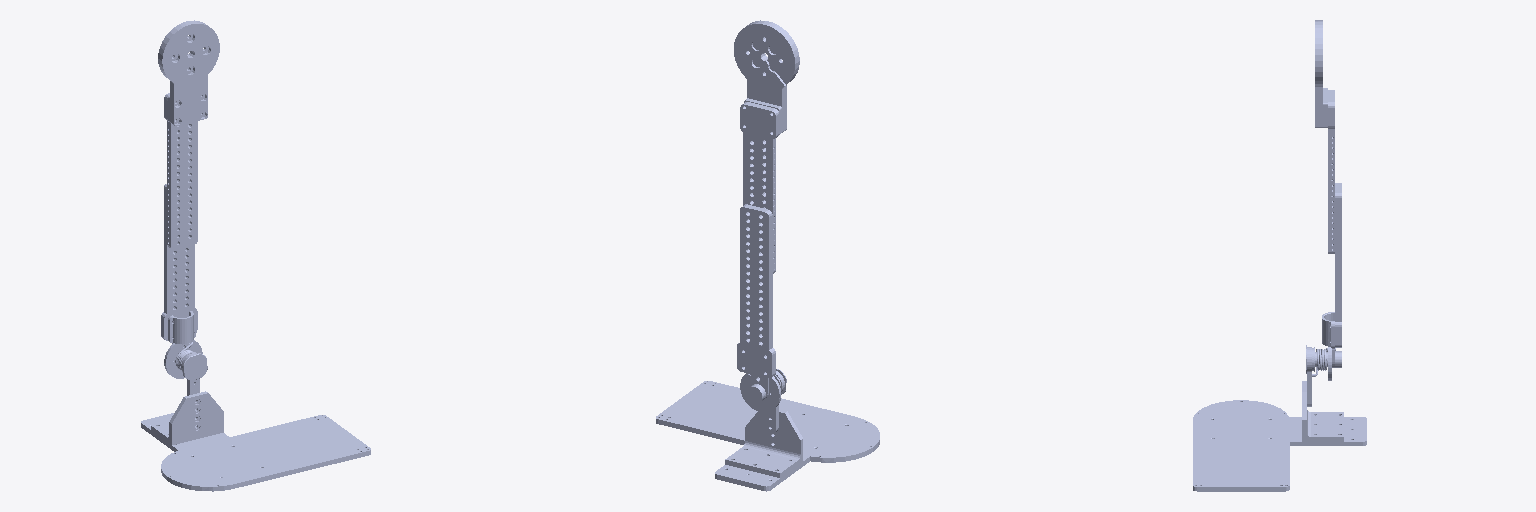
URDF robot description (exo_stand):
<?xml version="1.0" encoding="utf-8"?>
<!-- This URDF was automatically created by SolidWorks to URDF Exporter! Originally created by [author] ([email redacted]). so bro, if you have any questions, please communicate with [author] through email([email redacted]).
     Commit Version: 1.6.0-4-g7f85cfe  Build Version: 1.6.7995.38578
     For more information, please see http://wiki.ros.org/sw_urdf_exporter -->
<robot
  name="exo_stand">
  
  <link name="world"/>
  <joint name="base_joint" type="fixed">
     <parent link="world"/>
     <child link="base_link"/>
     <origin rpy="0 0 0" xyz="0.0 0.0 0.0"/>
  </joint>
  
  <link
    name="base_link">
    <inertial>
      <origin
        xyz="-0.042816 -4.3326E-06 0.21996"
        rpy="0 0 0" />
      <mass
        value="142.96" />
      <inertia
        ixx="19.5"
        ixy="-1.2289E-06"
        ixz="2.0058"
        iyy="16.237"
        iyz="-3.071E-05"
        izz="27.078" />
    </inertial>
    <visual>
      <origin
        xyz="0 0 0"
        rpy="0 0 0" />
      <geometry>
        <mesh
          filename="package://exo_stand/meshes/base_link.STL" />
      </geometry>
      <material
        name="">
        <color
          rgba="0.79216 0.81961 0.93333 1" />
      </material>
    </visual>
    <collision>
      <origin
        xyz="0 0 0"
        rpy="0 0 0" />
      <geometry>
        <mesh
          filename="package://exo_stand/meshes/base_link.STL" />
      </geometry>
    </collision>
  </link>
  <!-- <link
    name="link1">
    <inertial>
      <origin
        xyz="3.1492E-05 -0.049991 -0.34394"
        rpy="0 0 0" />
      <mass
        value="1.0253" />
      <inertia
        ixx="0.0012561"
        ixy="-1.135E-08"
        ixz="1.7024E-07"
        iyy="0.0017479"
        iyz="-3.2591E-06"
        izz="0.00065826" />
    </inertial>
    <visual>
      <origin
        xyz="0 0 0"
        rpy="0 0 0" />
      <geometry>
        <mesh
          filename="package://exo_stand/meshes/link1.STL" />
      </geometry>
      <material
        name="">
        <color
          rgba="0.79216 0.81961 0.93333 1" />
      </material>
    </visual>
    <collision>
      <origin
        xyz="0 0 0"
        rpy="0 0 0" />
      <geometry>
        <mesh
          filename="package://exo_stand/meshes/link1.STL" />
      </geometry>
    </collision>
  </link>
  <joint
    name="joint1"
    type="revolute">
    <origin
      xyz="0.03675 -0.1705 1.1229"
      rpy="0 0 0" />
    <parent
      link="base_link" />
    <child
      link="link1" />
    <axis
      xyz="0 -1 0" />
    <limit
      lower="-1.57"
      upper="1.57"
      effort="1000"
      velocity="5000" />
  </joint>
  <link
    name="link2">
    <inertial>
      <origin
        xyz="0.016028 0.034997 -0.34408"
        rpy="0 0 0" />
      <mass
        value="0.45601" />
      <inertia
        ixx="0.00085102"
        ixy="-8.69E-05"
        ixz="2.1456E-08"
        iyy="0.0013424"
        iyz="-8.565E-06"
        izz="0.0012002" />
    </inertial>
    <visual>
      <origin
        xyz="0 0 0"
        rpy="0 0 0" />
      <geometry>
        <mesh
          filename="package://exo_stand/meshes/link2.STL" />
      </geometry>
      <material
        name="">
        <color
          rgba="0.79216 0.81961 0.93333 1" />
      </material>
    </visual>
    <collision>
      <origin
        xyz="0 0 0"
        rpy="0 0 0" />
      <geometry>
        <mesh
          filename="package://exo_stand/meshes/link2.STL" />
      </geometry>
    </collision>
  </link>
  <joint
    name="joint2"
    type="revolute">
    <origin
      xyz="0 -0.0081 -0.398"
      rpy="0 0 0" />
    <parent
      link="link1" />
    <child
      link="link2" />
    <axis
      xyz="0 -1 0" />
    <limit
      lower="-2.355"
      upper="0"
      effort="1000"
      velocity="5000" />
  </joint> -->
  <link
    name="link3">
    <inertial>
      <origin
        xyz="-3.1492E-05 0.049991 -0.34394"
        rpy="0 0 0" />
      <mass
        value="1.0253" />
      <inertia
        ixx="0.0012561"
        ixy="-1.135E-08"
        ixz="-1.7024E-07"
        iyy="0.0017479"
        iyz="3.2591E-06"
        izz="0.00065826" />
    </inertial>
    <visual>
      <origin
        xyz="0 0 0"
        rpy="0 0 0" />
      <geometry>
        <mesh
          filename="package://exo_stand/meshes/link3.STL" />
      </geometry>
      <material
        name="">
        <color
          rgba="0.79216 0.81961 0.93333 1" />
      </material>
    </visual>
    <collision>
      <origin
        xyz="0 0 0"
        rpy="0 0 0" />
      <geometry>
        <mesh
          filename="package://exo_stand/meshes/link3.STL" />
      </geometry>
    </collision>
  </link>
  <joint
    name="joint3"
    type="revolute">
    <origin
      xyz="0.03675 0.1705 1.1229"
      rpy="0 0 0" />
    <parent
      link="base_link" />
    <child
      link="link3" />
    <axis
      xyz="0 1 0" />
    <limit
      lower="-1.57"
      upper="1.57"
      effort="1000"
      velocity="5000" />
  </joint>
  <link
    name="link4">
    <inertial>
      <origin
        xyz="0.016271 -0.035213 -0.34339"
        rpy="0 0 0" />
      <mass
        value="0.45407" />
      <inertia
        ixx="0.0010254"
        ixy="0.00014361"
        ixz="-2.5685E-06"
        iyy="0.0013601"
        iyz="9.0158E-06"
        izz="0.0013922" />
    </inertial>
    <visual>
      <origin
        xyz="0 0 0"
        rpy="0 0 0" />
      <geometry>
        <mesh
          filename="package://exo_stand/meshes/link4.STL" />
      </geometry>
      <material
        name="">
        <color
          rgba="0.79216 0.81961 0.93333 1" />
      </material>
    </visual>
    <collision>
      <origin
        xyz="0 0 0"
        rpy="0 0 0" />
      <geometry>
        <mesh
          filename="package://exo_stand/meshes/link4.STL" />
      </geometry>
    </collision>
  </link>
  <joint
    name="joint4"
    type="revolute">
    <origin
      xyz="0 0.0081 -0.398"
      rpy="0 0 0" />
    <parent
      link="link3" />
    <child
      link="link4" />
    <axis
      xyz="0 1 0" />
    <limit
      lower="0"
      upper="2.355"
      effort="1000"
      velocity="5000" />
  </joint>
  
  <!-- <transmission name="link_1_trans">
     <type>transmission_interface/SimpleTransmission</type>
     <joint name="joint1">     
         <hardwareInterface>hardware_interface/PositionJointInterface</hardwareInterface>
     </joint>	
     <actuator name="link_1_motor">
         <hardwareInterface>hardware_interface/PositionJointInterface</hardwareInterface>
         <mechanicalReduction>1</mechanicalReduction>
     </actuator>
  </transmission>
    <transmission name="link_2_trans">
     <type>transmission_interface/SimpleTransmission</type>
     <joint name="joint2">     
         <hardwareInterface>hardware_interface/PositionJointInterface</hardwareInterface>
     </joint>	
     <actuator name="link_2_motor">
         <hardwareInterface>hardware_interface/PositionJointInterface</hardwareInterface>
         <mechanicalReduction>1</mechanicalReduction>
     </actuator>
  </transmission> -->
  <transmission name="link_3_trans">
     <type>transmission_interface/SimpleTransmission</type>
     <joint name="joint3">     
         <hardwareInterface>hardware_interface/PositionJointInterface</hardwareInterface>
     </joint>
     <actuator name="link_3_motor">
         <hardwareInterface>hardware_interface/PositionJointInterface</hardwareInterface>
         <mechanicalReduction>1</mechanicalReduction>
     </actuator>
  </transmission>
  <transmission name="link_4_trans">
     <type>transmission_interface/SimpleTransmission</type>
     <joint name="joint4">     
         <hardwareInterface>hardware_interface/PositionJointInterface</hardwareInterface>
     </joint>	
     <actuator name="link_4_motor">
         <hardwareInterface>hardware_interface/PositionJointInterface</hardwareInterface>
         <mechanicalReduction>1</mechanicalReduction>
     </actuator>
  </transmission>
  
  <gazebo>
     <plugin name="control" filename="libgazebo_ros_control.so">
           <robotNamespace>/</robotNamespace>
     </plugin>
  </gazebo>

  <!-- <gazebo reference="link1">
     <selfCollide>true</selfCollide>
  </gazebo>
  <gazebo reference="link2">
     <selfCollide>true</selfCollide>
  </gazebo> -->
  <gazebo reference="link3">
     <selfCollide>true</selfCollide>
  </gazebo>
  <gazebo reference="link4">
     <selfCollide>true</selfCollide>
  </gazebo>  
  
</robot>

--- What the picture shows (computed from the rendered views, not written in the file) ---
Views: 3 orthographic renders of the robot side by side, from view 1: azimuth 30°, elevation 25°; view 2: azimuth 150°, elevation 25°; view 3: azimuth 270°, elevation 25°.
Model exo_stand with 4 links and 3 joints (2 revolute, 1 fixed), rooted at world, posed all joints at 0.
Links seen in each view (by area): view 1: link4; view 2: link4; view 3: link4.
Link boxes in pixels (bbox=[...]): link4: bbox=[141, 20, 370, 491]; link4: bbox=[656, 20, 879, 491]; link4: bbox=[1193, 20, 1366, 491].
Size in the robot's own frame: 0.245 by 0.2065 by 0.5366 metres.
1 mesh visuals loaded from 3 distinct referenced files (1 binary STL); not drawn: 2 (reference not matched to a file when rendering).